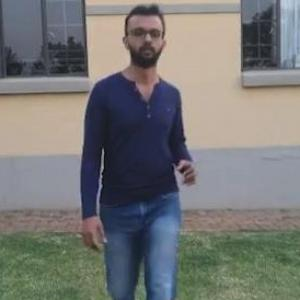follow: (68, 0, 191, 299)
